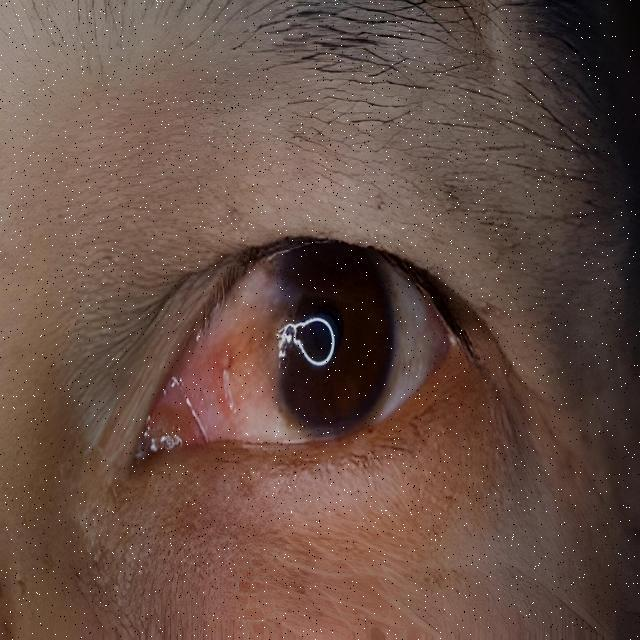Pterygium: (160, 268, 300, 434)
